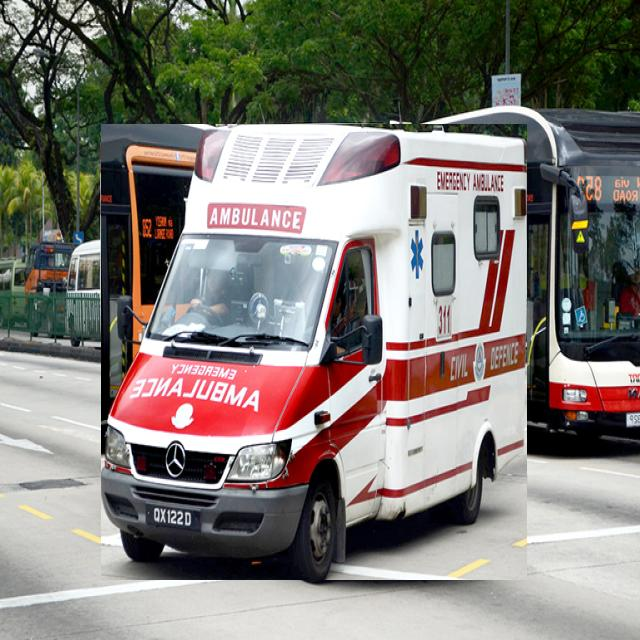emergency: (101, 125, 526, 580)
